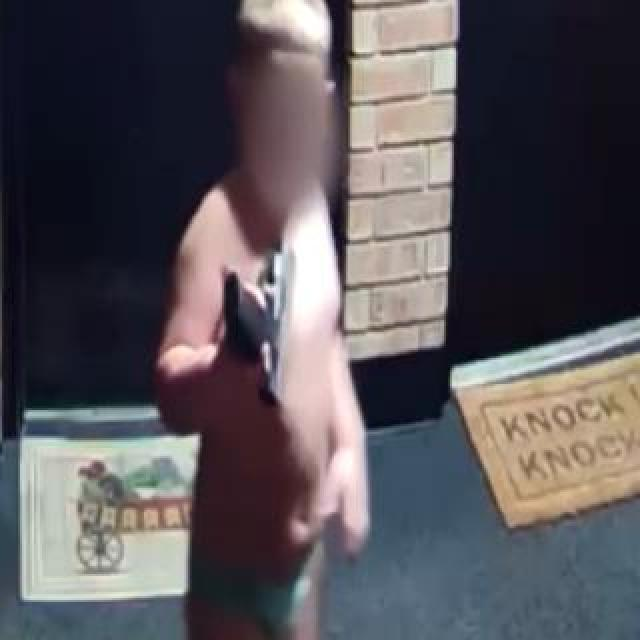Guns: (221, 233, 298, 402)
